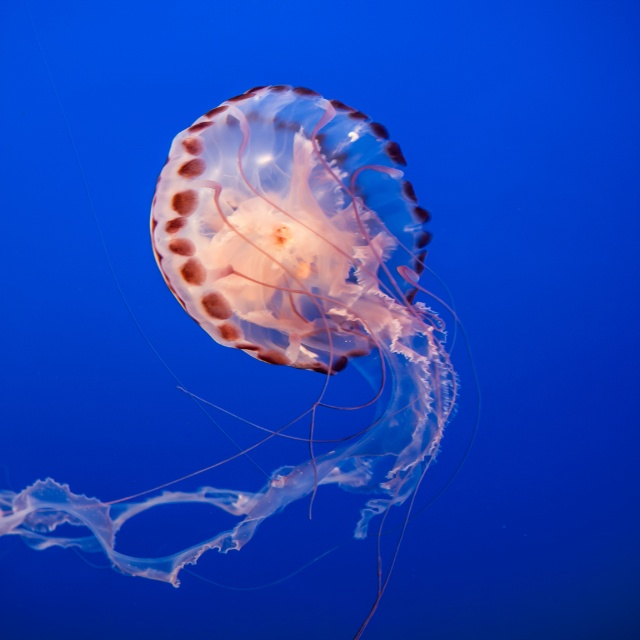Jellyfish: (0, 79, 482, 640)
